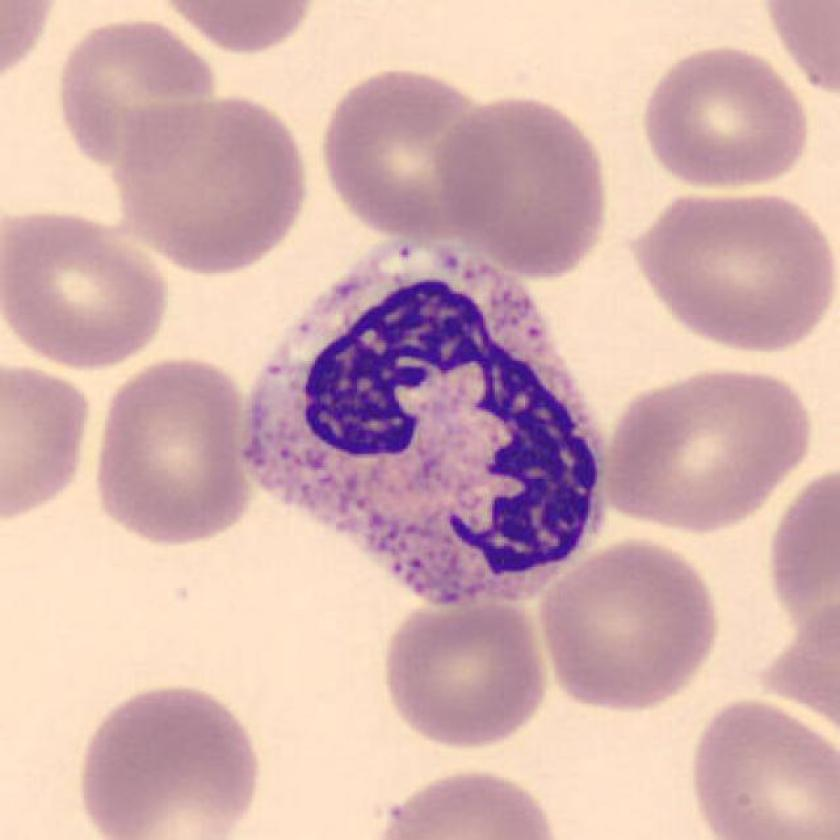neutrophil: (244, 243, 609, 606)
